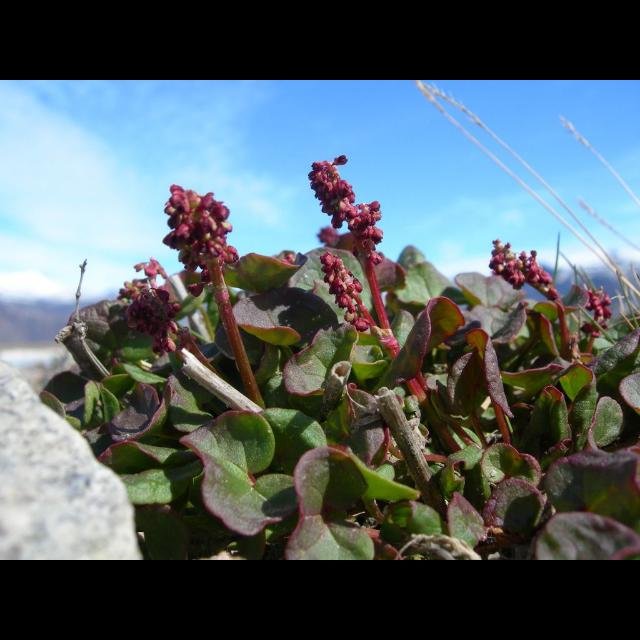Flower: (162, 182, 234, 300), (312, 152, 382, 268), (111, 258, 183, 358), (487, 241, 561, 303), (315, 250, 369, 332), (578, 286, 612, 338)
